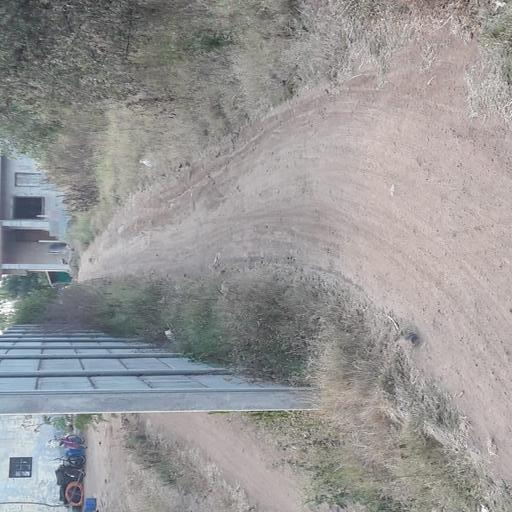vehicle_track: (78, 89, 512, 482)
